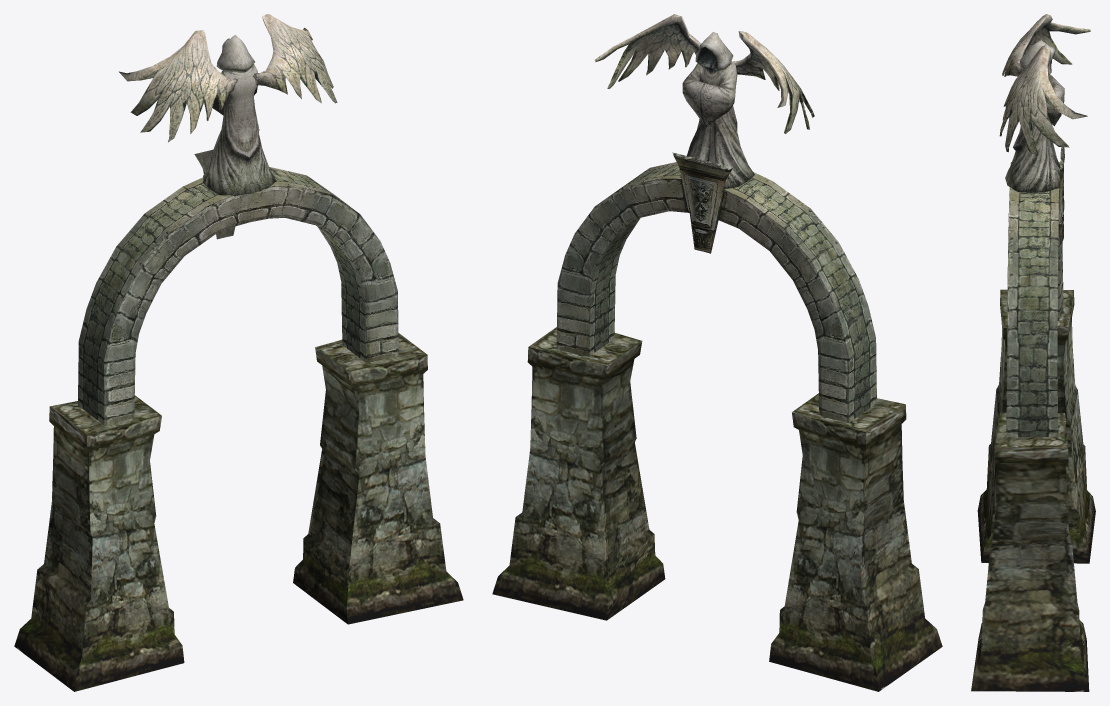
File: reaper stone archway.fbx
The picture shows the model from 3 angles, left to right: view 1: azimuth 30°, elevation 25°; view 2: azimuth 150°, elevation 25°; view 3: azimuth 270°, elevation 25°; orthographic projection. The views are drawn at different scales.
Visible parts, largest first — view 1: cadnav; view 2: cadnav; view 3: cadnav.
Part boxes in pixels (x1,y1,x2,y2): cadnav: [14, 14, 463, 691]; cadnav: [492, 14, 942, 691]; cadnav: [971, 14, 1095, 691].
Bounding box in the file's own units: 72.11 × 106 × 20.99.
